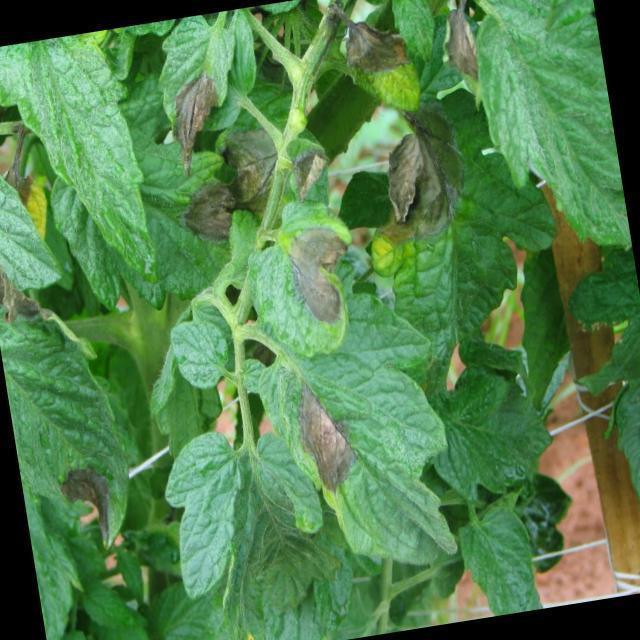Healthy Leaf: (10, 28, 155, 275), (149, 422, 264, 603), (415, 358, 557, 504), (164, 307, 235, 401)
